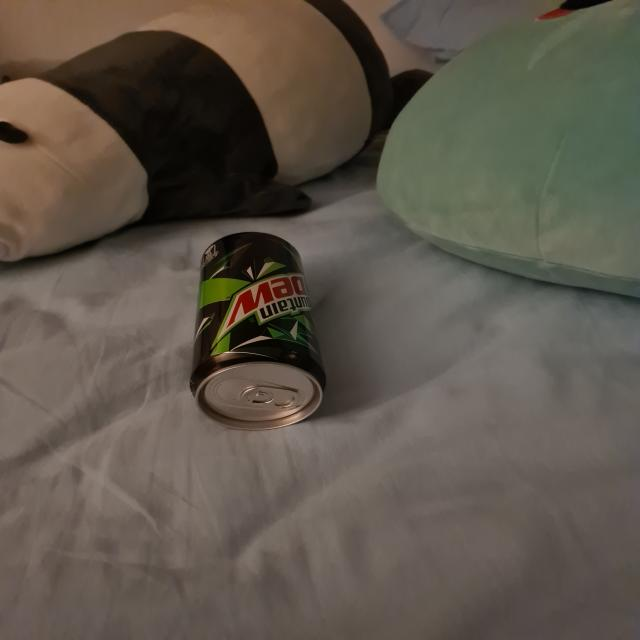non-organic waste: (185, 227, 335, 431)
